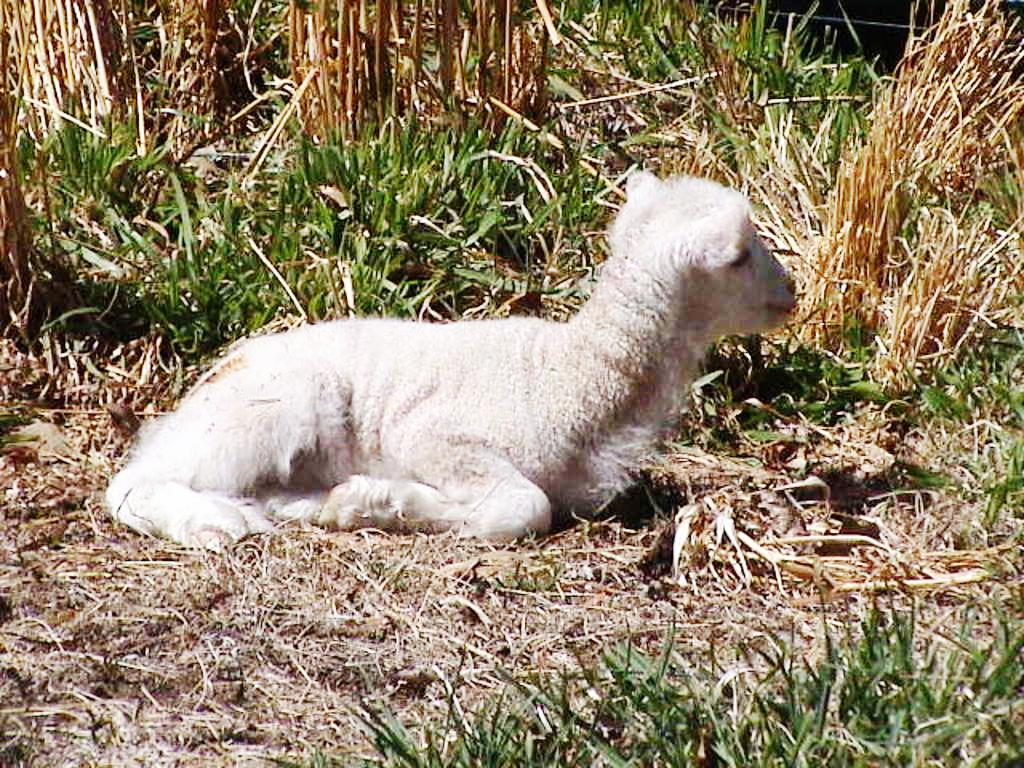Sheep: (80, 170, 810, 562)
